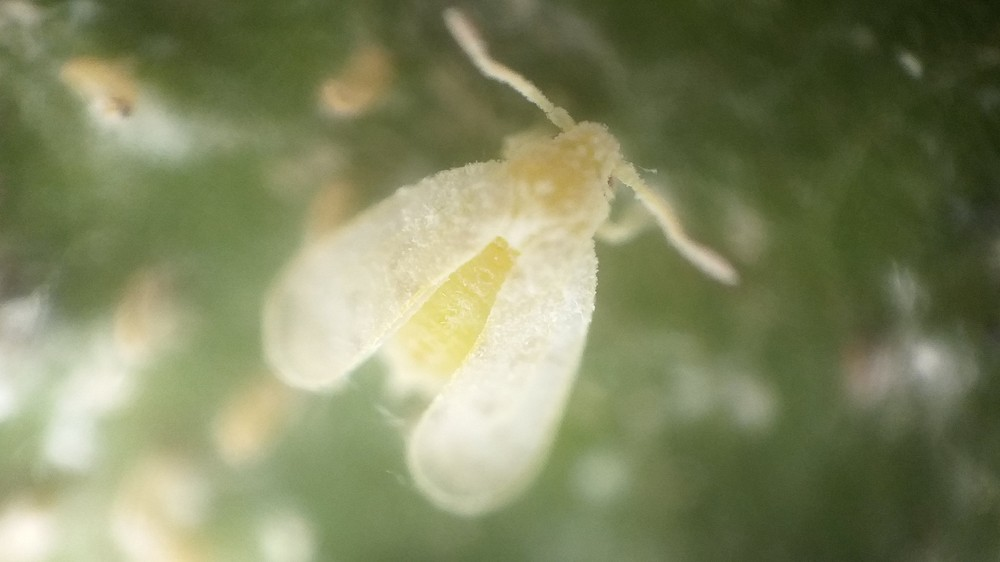Mosca Blanca: (268, 9, 728, 526)
